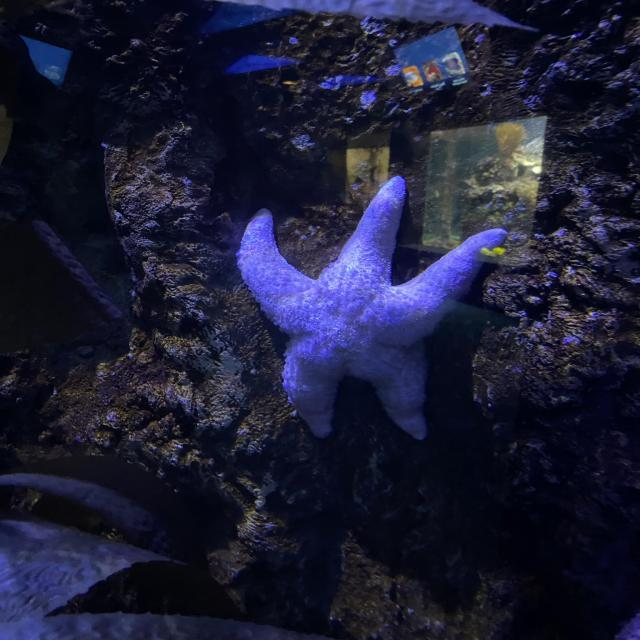starfish: (229, 184, 508, 441)
